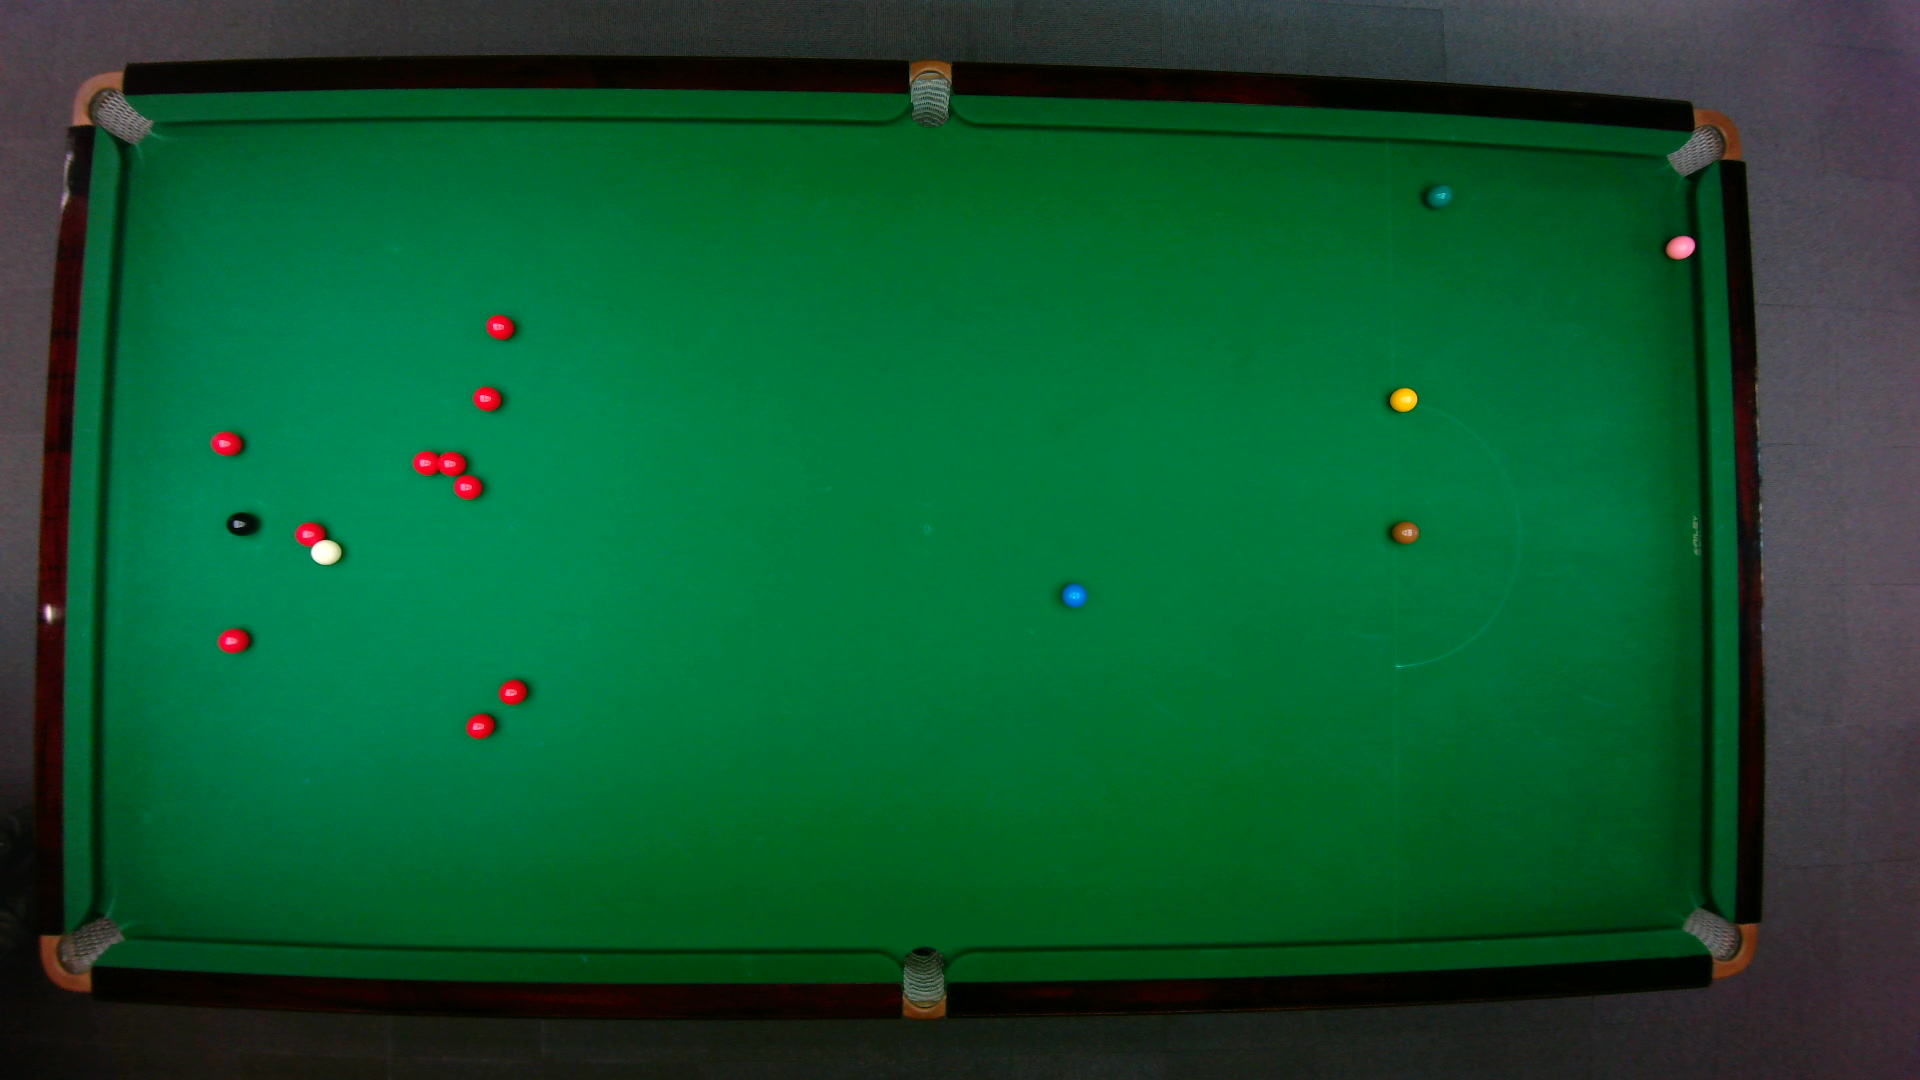bag: (37, 913, 127, 992), (69, 69, 153, 145), (1679, 905, 1756, 978), (1663, 107, 1741, 177), (901, 944, 944, 1021), (909, 57, 949, 128)
black: (223, 510, 256, 535)
blue: (1059, 580, 1087, 608)
brown: (1389, 520, 1419, 545)
green: (1422, 182, 1453, 208)
pink: (1663, 232, 1697, 260)
red: (208, 429, 244, 456), (215, 626, 251, 653), (463, 711, 496, 738), (497, 676, 527, 705), (451, 472, 483, 500), (471, 384, 502, 411), (410, 448, 442, 476), (484, 313, 516, 340), (436, 448, 467, 476), (293, 520, 324, 546)
white: (309, 537, 343, 564)
yellow: (1387, 385, 1418, 411)
zone: (1390, 400, 1520, 667)
